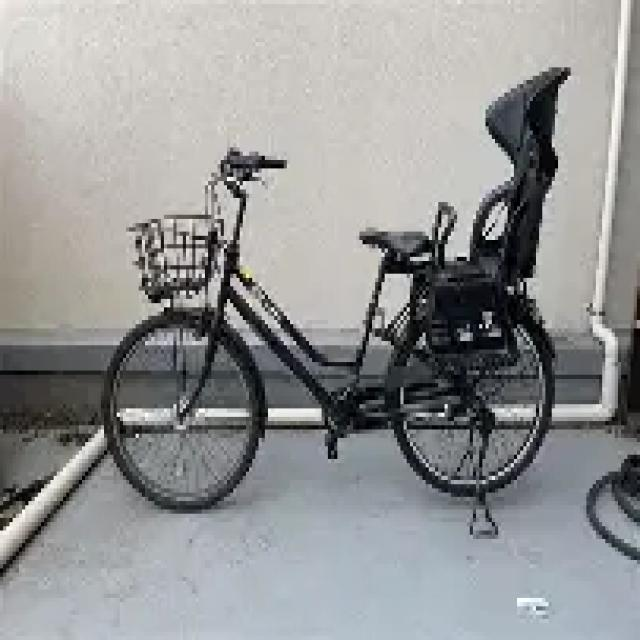basket: (130, 208, 217, 298)
childseat: (406, 62, 575, 379)
